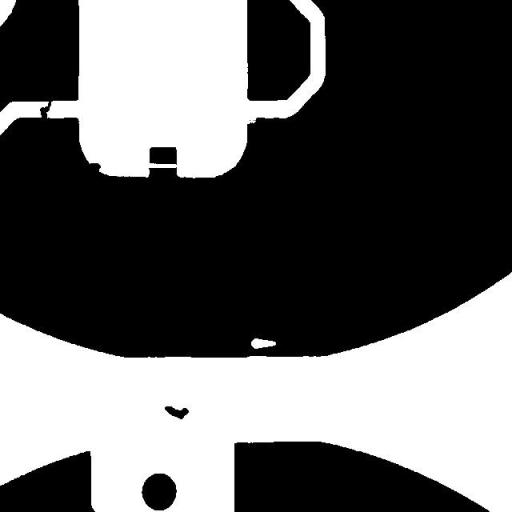copper: (157, 398, 196, 426)
mousebite: (235, 108, 264, 131)
open: (131, 152, 184, 175)
pin-hole: (243, 330, 283, 356)
short: (32, 92, 58, 130)
spur: (80, 155, 108, 181)
